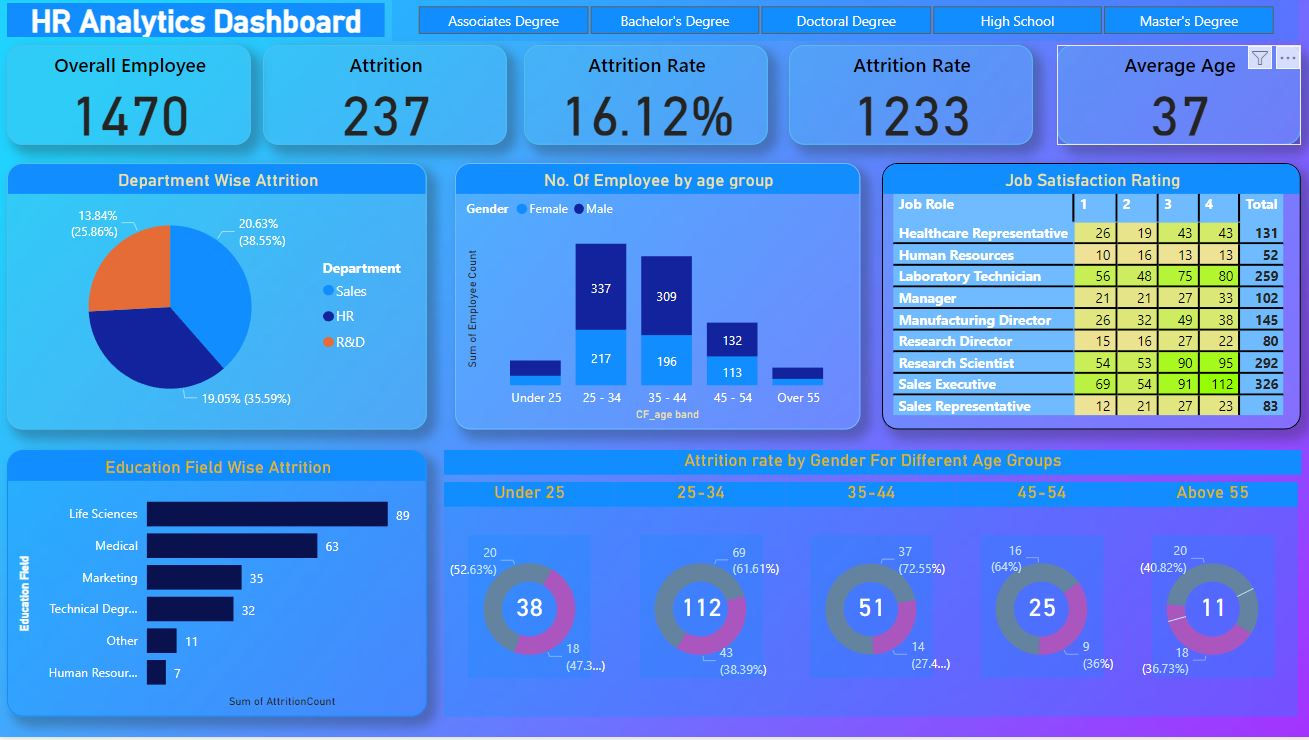

Layout of this report page (visuals, bound fields, positions):
{"tool":"powerbi","page":{"name":"Page 1","canvas":[1280,720],"ordinal":0},"visuals":[{"type":"card","title":"Overall Employee","fields":{"Values":["Sum(Table1.Employee Count)"]},"box":[8.3,47.4,237.2,97],"z":0},{"type":"card","title":"Attrition","fields":{"Values":["Sum(Table1.AttritionCount)"]},"box":[256.8,47.4,237.2,97],"z":1000},{"type":"card","title":"Attrition Rate","fields":{"Values":["Table1.Attrition Rate"]},"box":[510.6,47.4,237.2,97],"z":2000},{"type":"card","title":"Attrition Rate","fields":{"Values":["Table1.Active employees"]},"box":[767.4,47.4,237.2,97],"z":3000},{"type":"card","title":"Average Age","fields":{"Values":["Avg(Table1.Age)"]},"box":[1028.3,47.4,237.2,97],"z":4000},{"type":"pieChart","title":"Department Wise Attrition","fields":{"Category":["Table1.Department"],"Y":["Table1.Attrition Rate"]},"box":[8.3,161.9,408.4,258.9],"z":5000},{"type":"columnChart","title":"No. Of Employee by age group","fields":{"Category":["Table1.CF_age band"],"Y":["Sum(Table1.Employee Count)"],"Series":["Table1.Gender"]},"box":[443.5,161.9,394,258.9],"z":6000},{"type":"pivotTable","title":"Job Satisfaction Rating","fields":{"Rows":["Table1.Job Role"],"Columns":["Table1.Job Satisfaction"],"Values":["Sum(Table1.Employee Count)"]},"box":[858.1,161.9,407.4,258.9],"z":7000},{"type":"barChart","title":"Education Field Wise Attrition","fields":{"Category":["Table1.Education Field"],"Y":["Sum(Table1.AttritionCount)"]},"box":[7.8,441.2,408.2,259.5],"z":8000},{"type":"donutChart","title":"Under 25","fields":{"Category":["Table1.Gender"],"Y":["Sum(Table1.AttritionCount)"],"Series":["Table1.CF_age band"]},"box":[432.5,472.3,166,228.4],"z":9000},{"type":"textbox","title":"Attrition rate by Gender For Different Age Groups","box":[432.5,441.2,832.9,24.3],"z":10000},{"type":"donutChart","title":"25-34","fields":{"Category":["Table1.Gender"],"Y":["Sum(Table1.AttritionCount)"],"Series":["Table1.CF_age band"]},"box":[598.7,472.3,166.2,228.4],"z":11000},{"type":"donutChart","title":"35-44","fields":{"Category":["Table1.Gender"],"Y":["Sum(Table1.AttritionCount)"],"Series":["Table1.CF_age band"]},"box":[764.9,472.3,165.2,228.4],"z":12000},{"type":"donutChart","title":"45-54","fields":{"Category":["Table1.Gender"],"Y":["Sum(Table1.AttritionCount)"],"Series":["Table1.CF_age band"]},"box":[930.1,472.3,166.2,228.4],"z":13000},{"type":"donutChart","title":"Above 55","fields":{"Category":["Table1.Gender"],"Y":["Sum(Table1.AttritionCount)"],"Series":["Table1.CF_age band"]},"box":[1096.3,472.3,166.2,228.4],"z":14000},{"type":"card","fields":{"Values":["Sum(Table1.AttritionCount)"]},"box":[455.8,523.9,118.6,139],"z":15000},{"type":"card","fields":{"Values":["Sum(Table1.AttritionCount)"]},"box":[1120.6,523.9,118.6,139],"z":16000},{"type":"card","fields":{"Values":["Sum(Table1.AttritionCount)"]},"box":[954.4,523.9,118.6,139],"z":17000},{"type":"card","fields":{"Values":["Sum(Table1.AttritionCount)"]},"box":[788.2,523.9,118.6,139],"z":18000},{"type":"card","fields":{"Values":["Sum(Table1.AttritionCount)"]},"box":[623,523.9,118.6,139],"z":19000},{"type":"textbox","title":"  HR Analytics Dashboard","box":[7.8,6.8,367.4,33],"z":20000},{"type":"slicer","fields":{"Values":["Table1.Education"]},"box":[382,2.9,880.5,40.8],"z":20001}]}

Visuals, with their boxes in screenshot pixels (x1, y1, x2, y2), scaled from the page's 1280x720 canvas onto the 1309x740 screenshot:
"Overall Employee" card: <bbox>8, 49, 251, 148</bbox>
"Attrition" card: <bbox>263, 49, 505, 148</bbox>
"Attrition Rate" card: <bbox>522, 49, 765, 148</bbox>
"Attrition Rate" card: <bbox>785, 49, 1027, 148</bbox>
"Average Age" card: <bbox>1052, 49, 1294, 148</bbox>
"Department Wise Attrition" pieChart: <bbox>8, 166, 426, 432</bbox>
"No. Of Employee by age group" columnChart: <bbox>454, 166, 856, 432</bbox>
"Job Satisfaction Rating" pivotTable: <bbox>878, 166, 1294, 432</bbox>
"Education Field Wise Attrition" barChart: <bbox>8, 453, 425, 720</bbox>
"Under 25" donutChart: <bbox>442, 485, 612, 720</bbox>
"Attrition rate by Gender For Different Age Groups" textbox: <bbox>442, 453, 1294, 478</bbox>
"25-34" donutChart: <bbox>612, 485, 782, 720</bbox>
"35-44" donutChart: <bbox>782, 485, 951, 720</bbox>
"45-54" donutChart: <bbox>951, 485, 1121, 720</bbox>
"Above 55" donutChart: <bbox>1121, 485, 1291, 720</bbox>
card - Sum(Table1.AttritionCount): <bbox>466, 538, 587, 681</bbox>
card - Sum(Table1.AttritionCount): <bbox>1146, 538, 1267, 681</bbox>
card - Sum(Table1.AttritionCount): <bbox>976, 538, 1097, 681</bbox>
card - Sum(Table1.AttritionCount): <bbox>806, 538, 927, 681</bbox>
card - Sum(Table1.AttritionCount): <bbox>637, 538, 758, 681</bbox>
"  HR Analytics Dashboard" textbox: <bbox>8, 7, 384, 41</bbox>
slicer - Table1.Education: <bbox>391, 3, 1291, 45</bbox>
